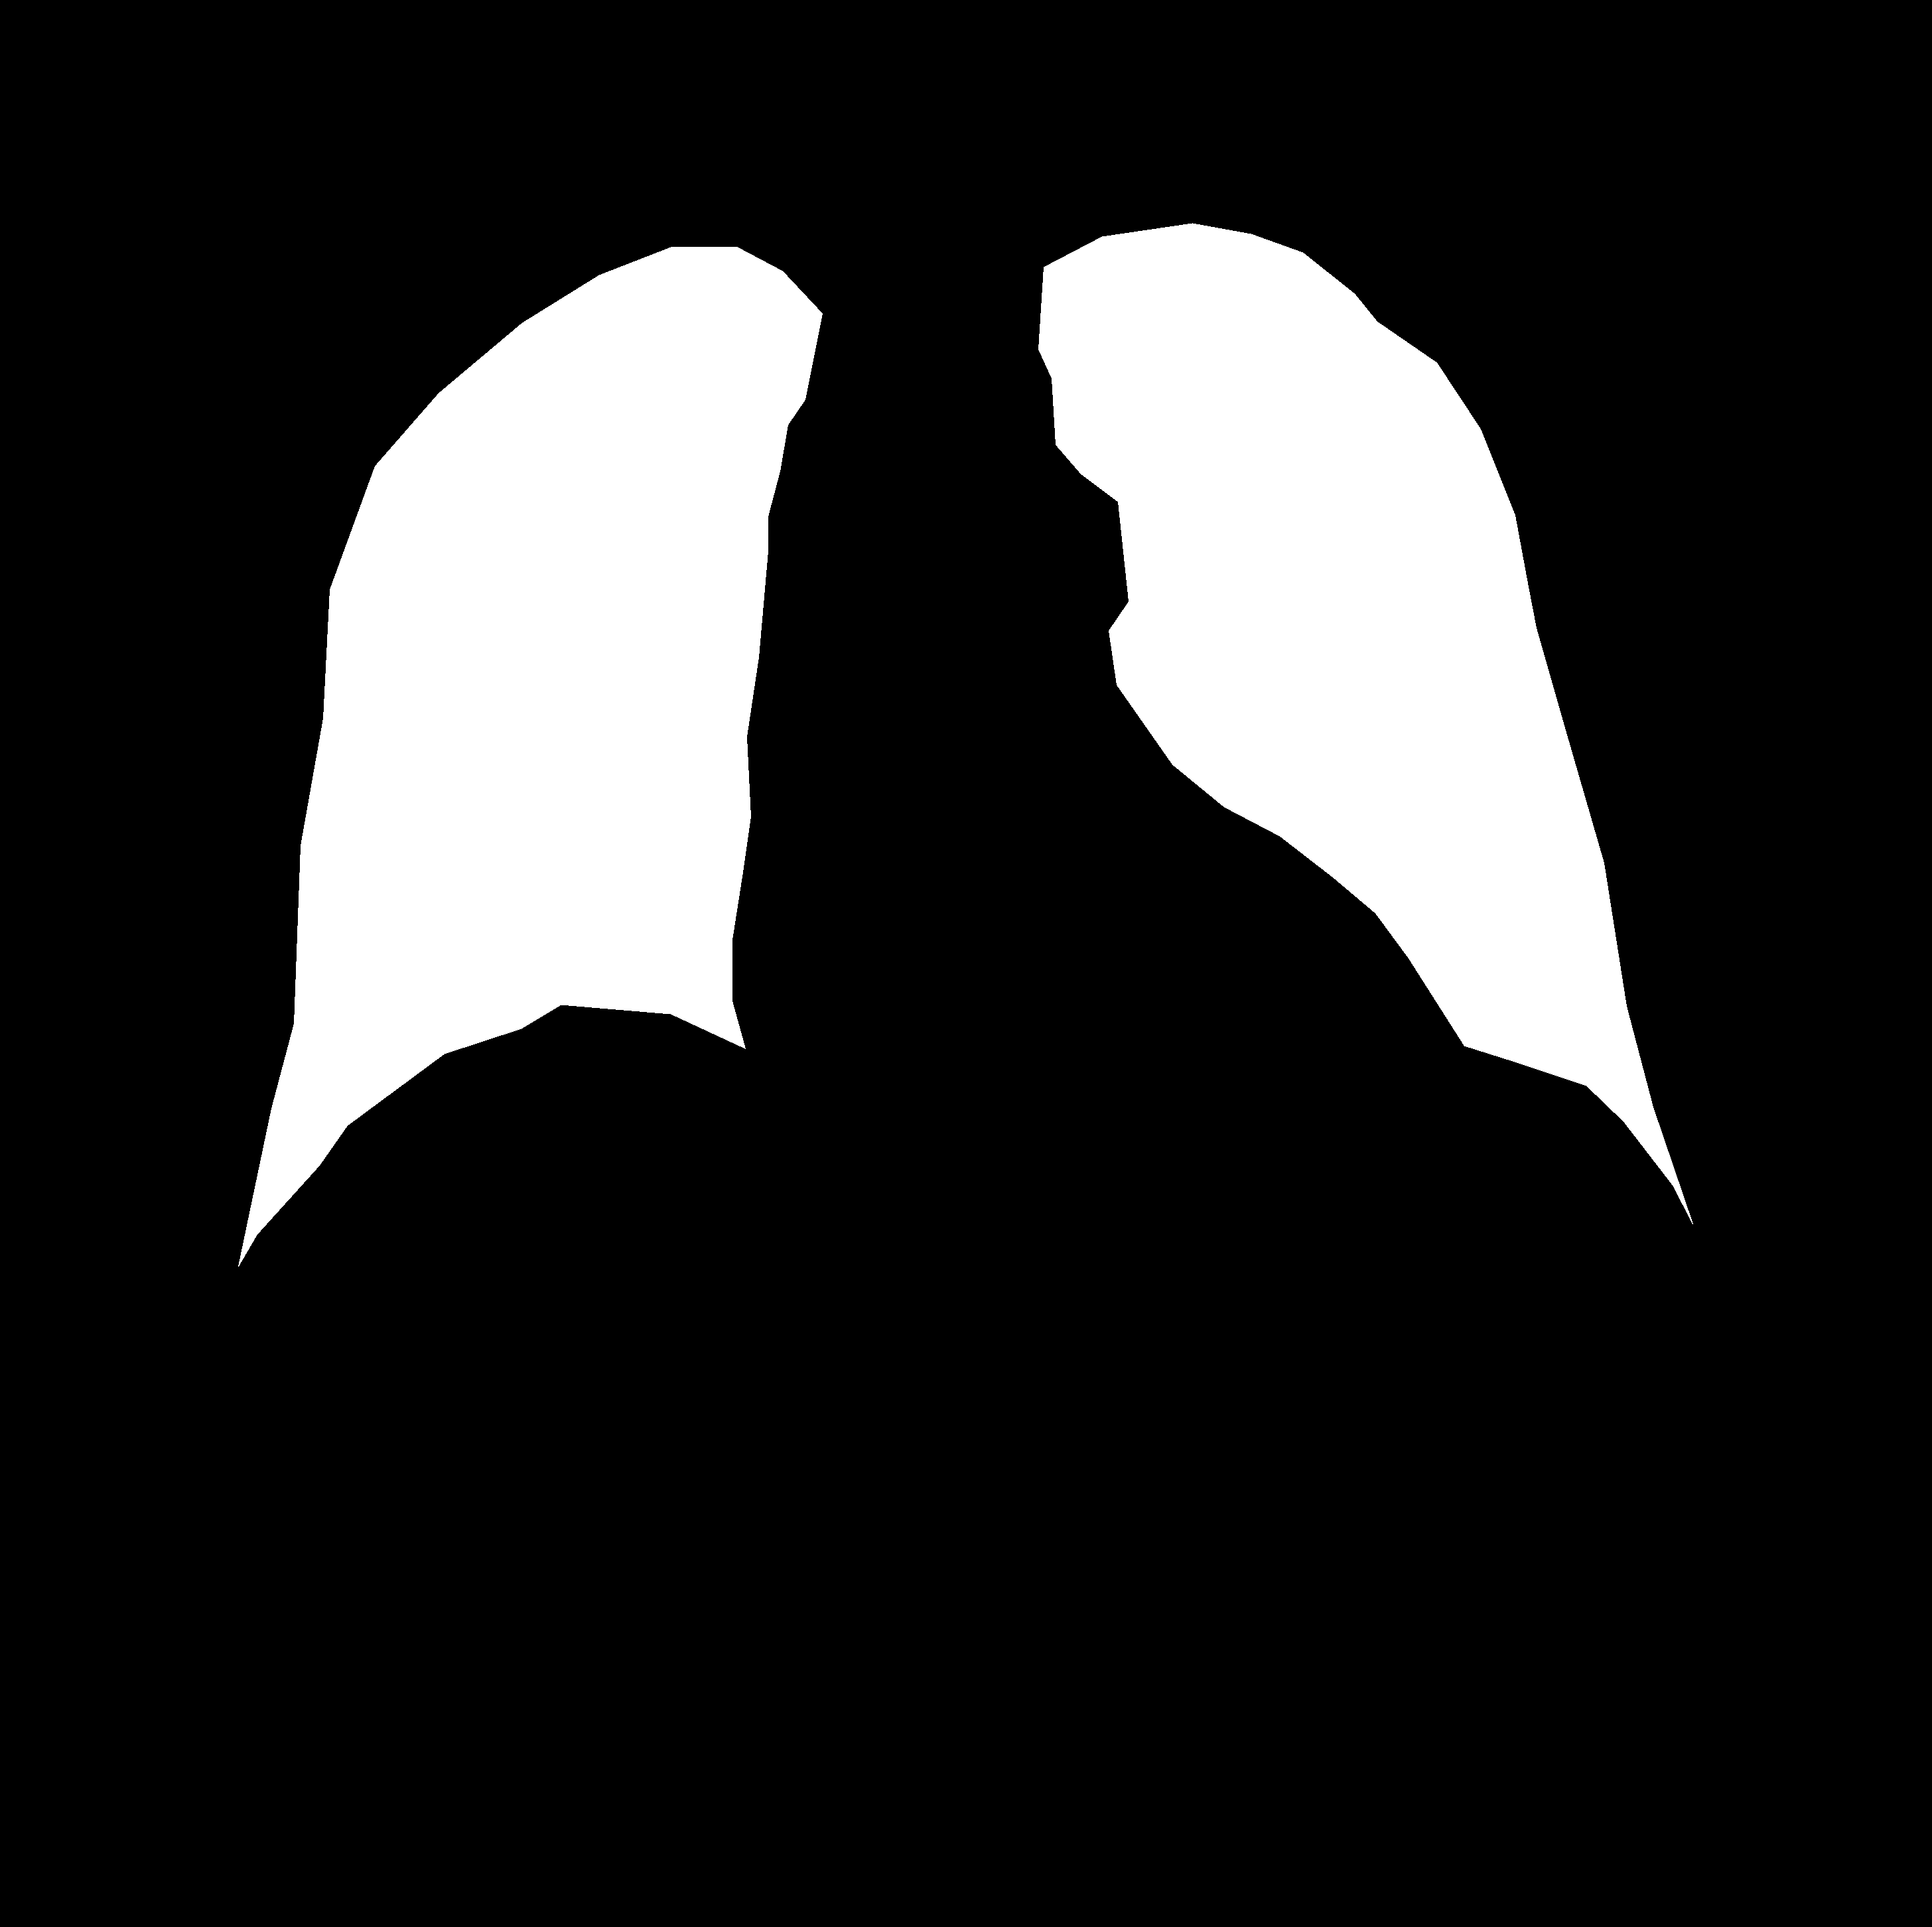heart: (734, 612, 1445, 1179)
left_lung: (238, 247, 822, 1265)
right_lung: (1037, 222, 1692, 1223)
